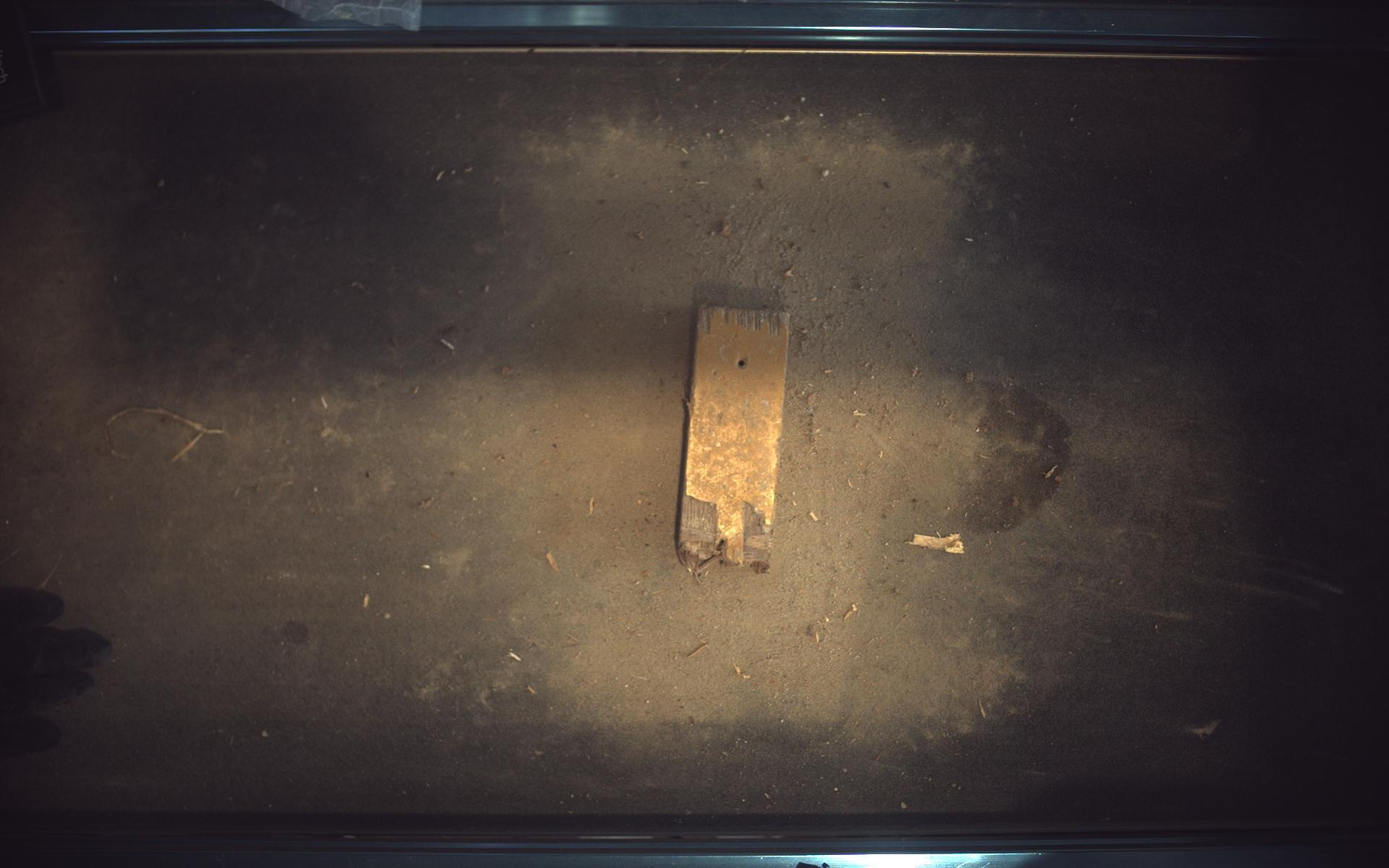wood: (678, 303, 790, 574)
